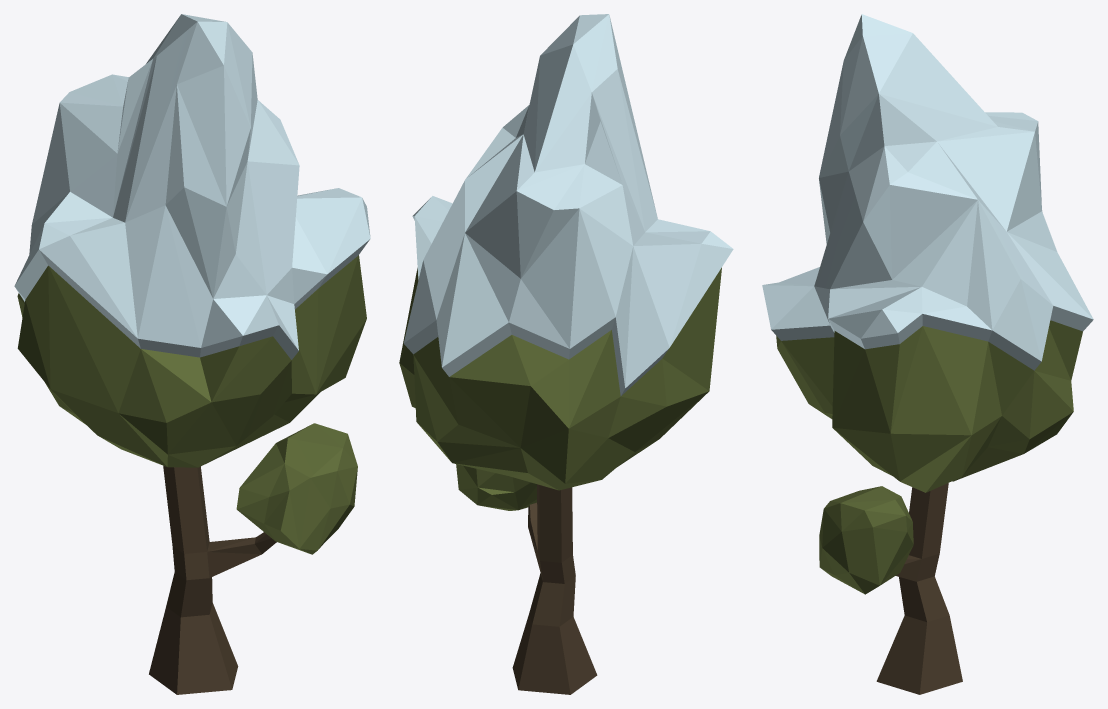
The model's file is SM_Env_Tree_08_Snow.gltf.
3 renders of one model, left to right at view 1: azimuth 30°, elevation 25°; view 2: azimuth 150°, elevation 25°; view 3: azimuth 270°, elevation 25°, orthographic. The views are drawn at different scales.
Visible parts, largest first — view 1: SM_Env_Tree_08_Snow; view 2: SM_Env_Tree_08_Snow; view 3: SM_Env_Tree_08_Snow.
Boxes of the visible parts, <box> form: SM_Env_Tree_08_Snow: <box>14,14,370,694</box>; SM_Env_Tree_08_Snow: <box>399,14,733,694</box>; SM_Env_Tree_08_Snow: <box>762,14,1093,694</box>.
Size of the model in its own units: 3.33 by 6.53 by 3.03.
1 material, 1 textured.
